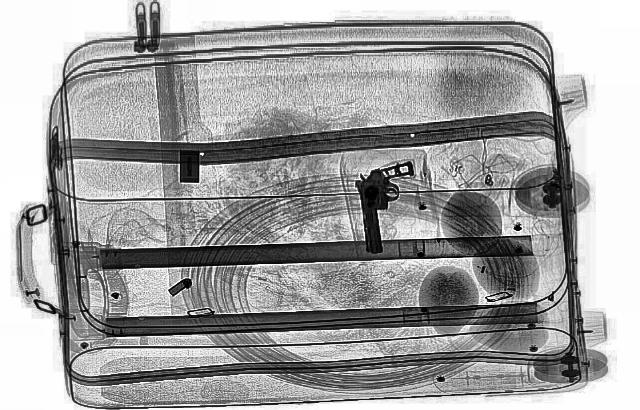Gun: (354, 162, 422, 254)
